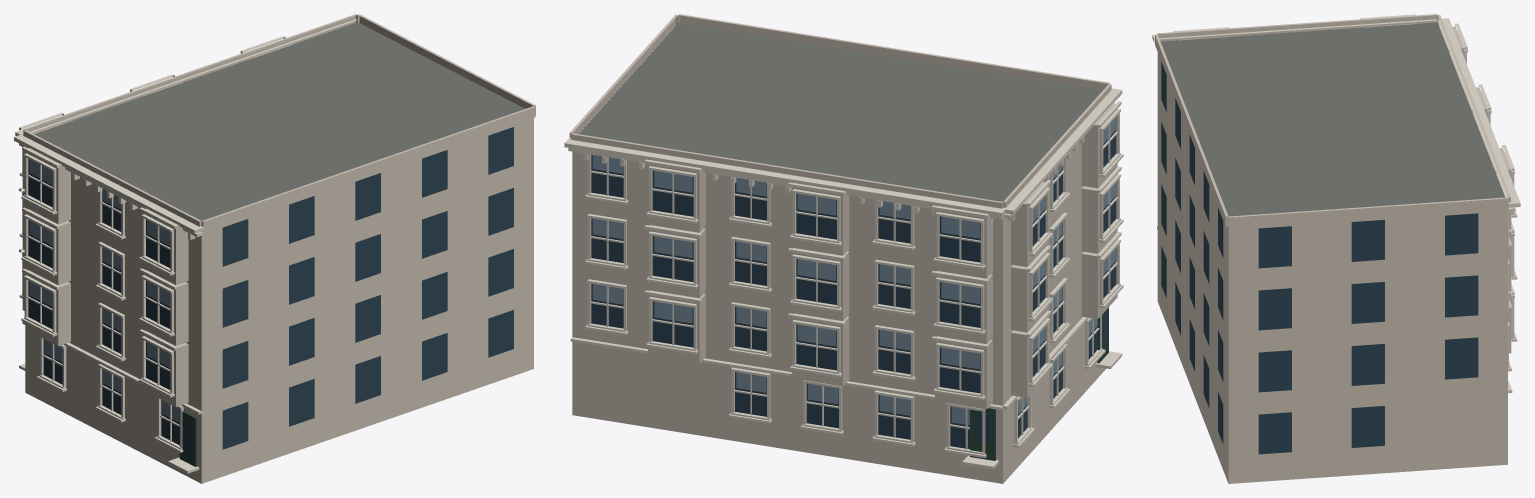
The picture shows the model from 3 angles, left to right: view 1: azimuth 30°, elevation 25°; view 2: azimuth 150°, elevation 25°; view 3: azimuth 270°, elevation 25°; orthographic projection. The views are drawn at different scales.
Visible parts, largest first — view 1: Footprint 0 / surface 2, Footprint 0 / surface 1, Inset glazing, Facade bay volumes, Cornices and window frames, Sky reflection panels, Storefronts and doors; view 2: Footprint 0 / surface 2, Footprint 0 / surface 1, Cornices and window frames, Facade bay volumes, Inset glazing, Sky reflection panels, Storefronts and doors; view 3: Footprint 0 / surface 2, Footprint 0 / surface 1, Inset glazing, Facade bay volumes, Cornices and window frames.
Part boxes in pixels (left/top/right/bottom): Footprint 0 / surface 2: left=25, top=118, right=533, bottom=483; Footprint 0 / surface 1: left=34, top=22, right=524, bottom=220; Inset glazing: left=28, top=127, right=513, bottom=449; Facade bay volumes: left=22, top=14, right=535, bottom=406; Cornices and window frames: left=14, top=19, right=356, bottom=473; Sky reflection panels: left=29, top=159, right=179, bottom=422; Storefronts and doors: left=179, top=410, right=196, bottom=466; Footprint 0 / surface 2: left=572, top=143, right=1105, bottom=483; Footprint 0 / surface 1: left=578, top=23, right=1102, bottom=201; Cornices and window frames: left=564, top=88, right=1123, bottom=469; Facade bay volumes: left=569, top=14, right=1117, bottom=409; Inset glazing: left=591, top=117, right=1116, bottom=449; Sky reflection panels: left=592, top=117, right=1115, bottom=425; Storefronts and doors: left=970, top=307, right=1108, bottom=460; Footprint 0 / surface 2: left=1157, top=52, right=1507, bottom=483; Footprint 0 / surface 1: left=1161, top=22, right=1504, bottom=216; Inset glazing: left=1161, top=62, right=1478, bottom=454; Facade bay volumes: left=1155, top=14, right=1511, bottom=353; Cornices and window frames: left=1152, top=14, right=1520, bottom=393.
Bounding box in the file's own units: 21.45 × 12.7 × 15.85.
